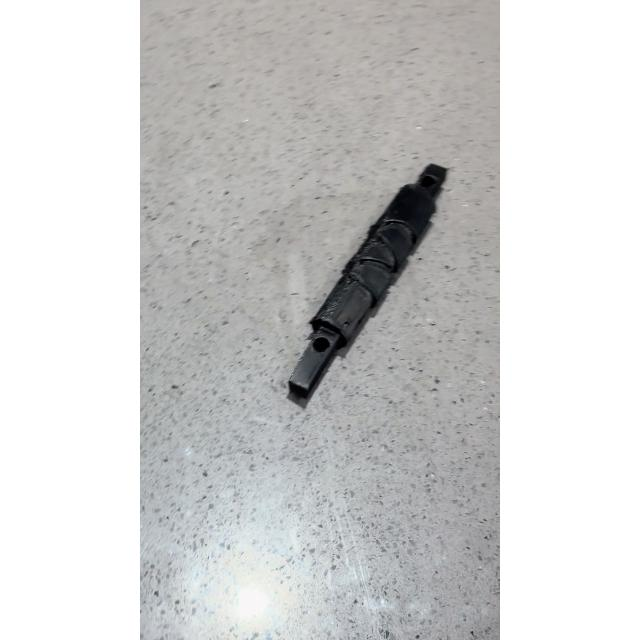Pieza_1: (274, 145, 460, 415)
